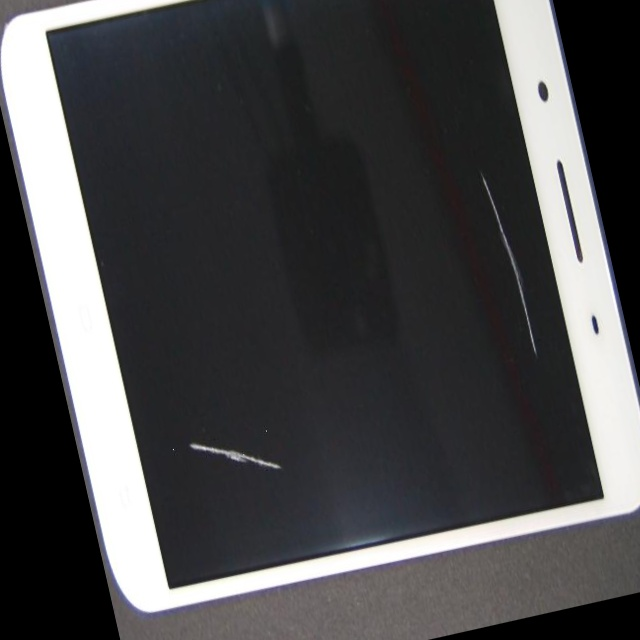scratch: (197, 0, 640, 507), (27, 182, 322, 640)
